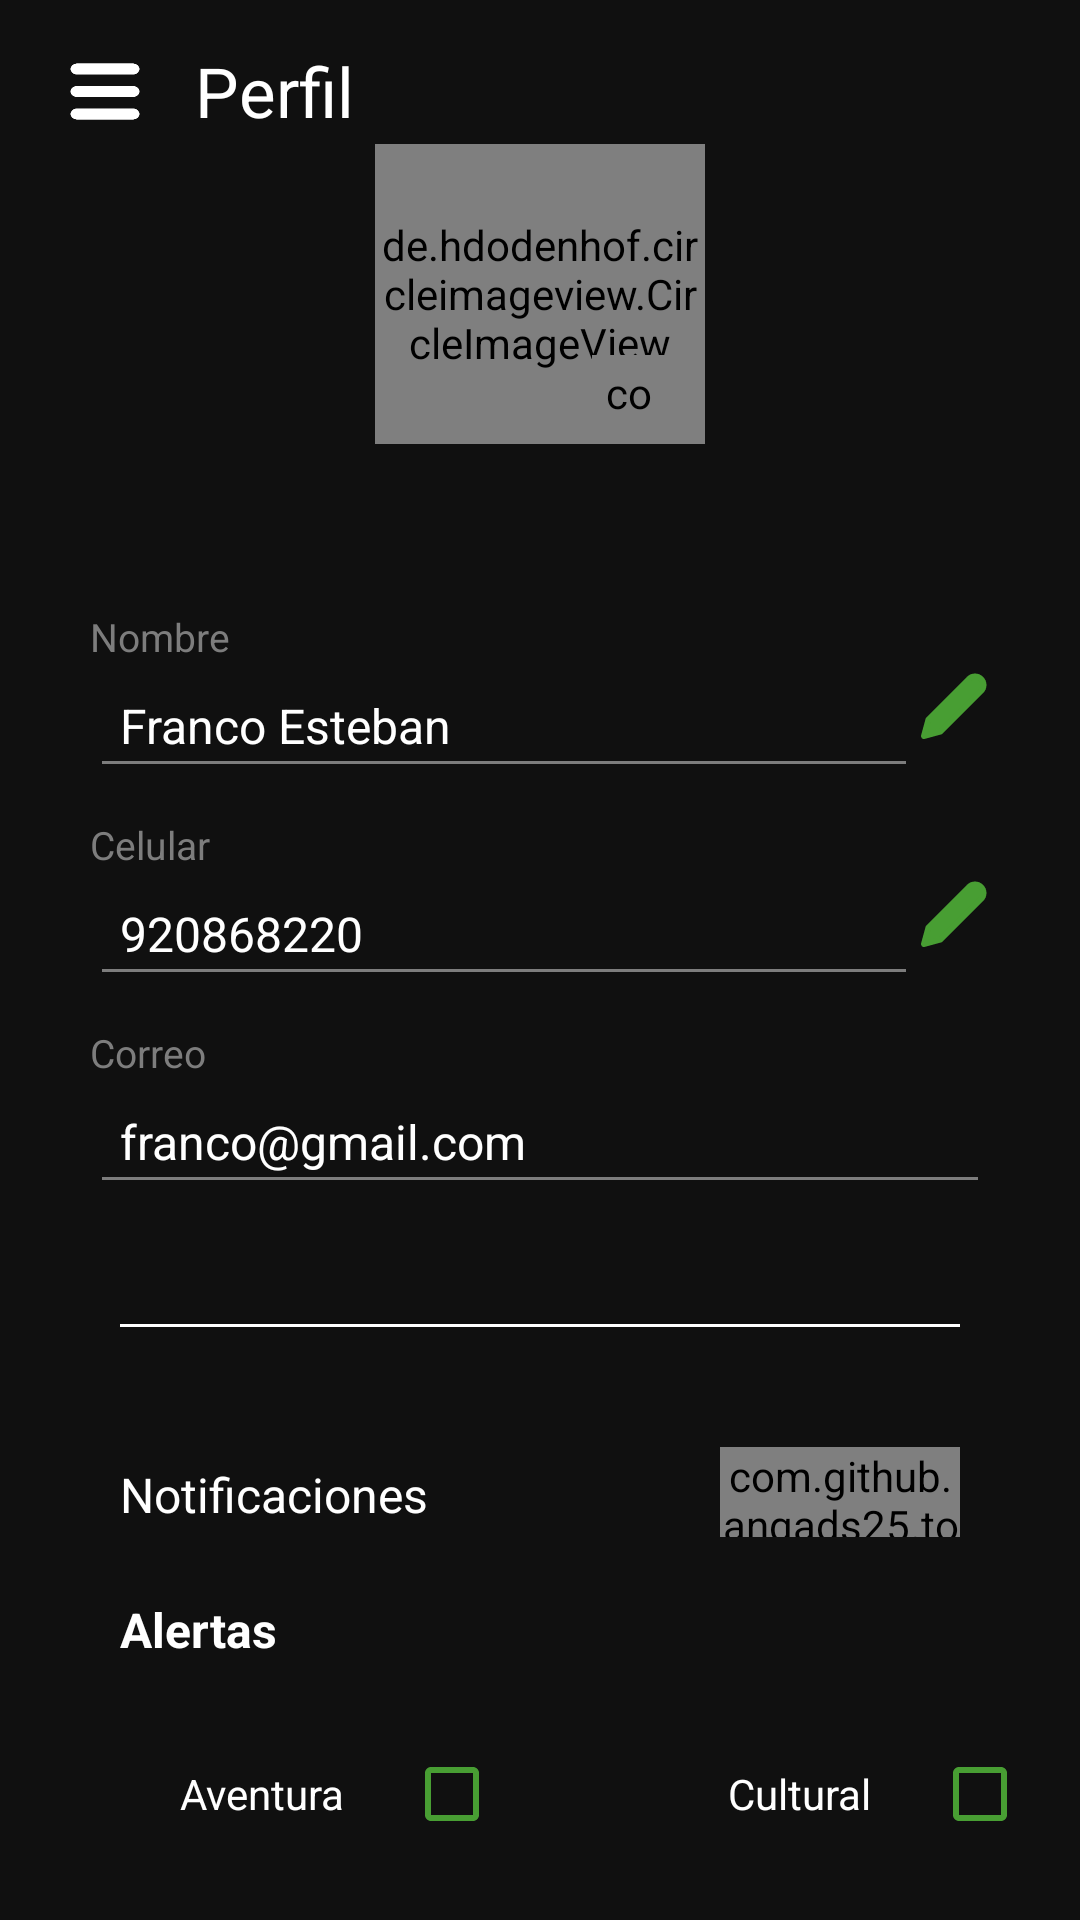

Named icons in this screenshot (1080×1920) and their bounding boxes, (x1, y1, x2, y2):
navw: (70, 63, 140, 120)
pen: (921, 673, 987, 739), (921, 881, 987, 947)
